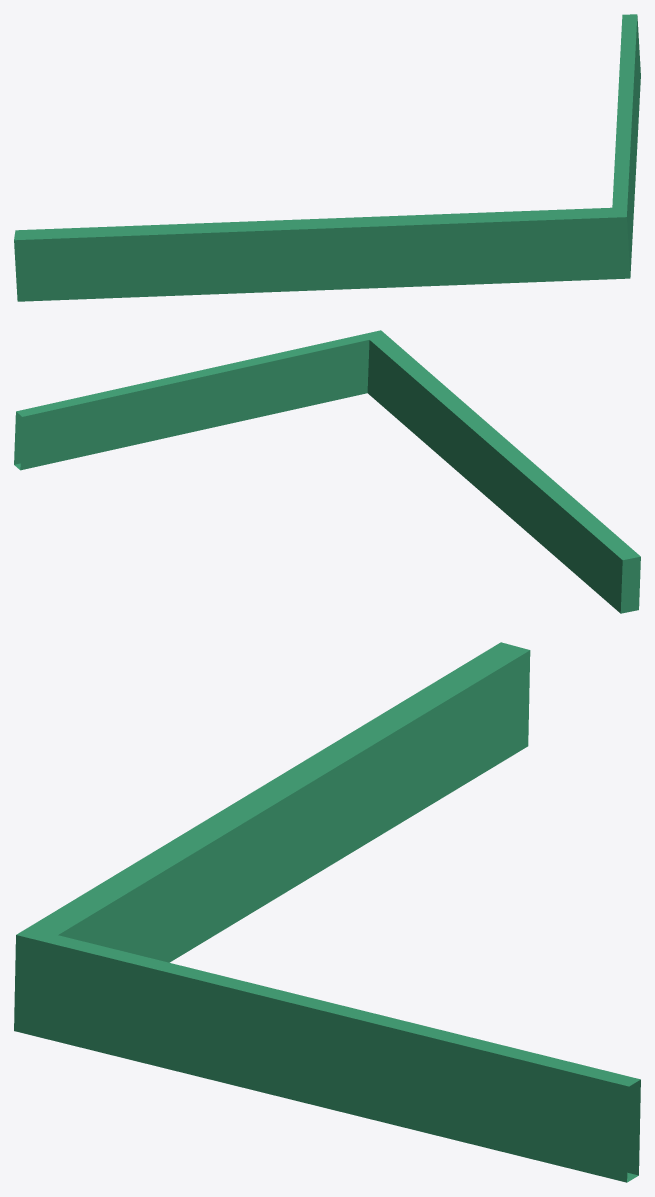
The model's file is escombros.fbx.
3 renders of one model, top to bottom at view 1: azimuth 30°, elevation 25°; view 2: azimuth 150°, elevation 25°; view 3: azimuth 270°, elevation 25°, orthographic. The views are drawn at different scales.
Parts seen in each view (by area): view 1: decoración fuente; view 2: decoración fuente; view 3: decoración fuente.
Part boxes in pixels (x1,y1,x2,y2): decoración fuente: [14, 14, 640, 301]; decoración fuente: [14, 330, 640, 613]; decoración fuente: [14, 642, 640, 1182].
Size of the model in its own units: 1149 by 155 by 613.
